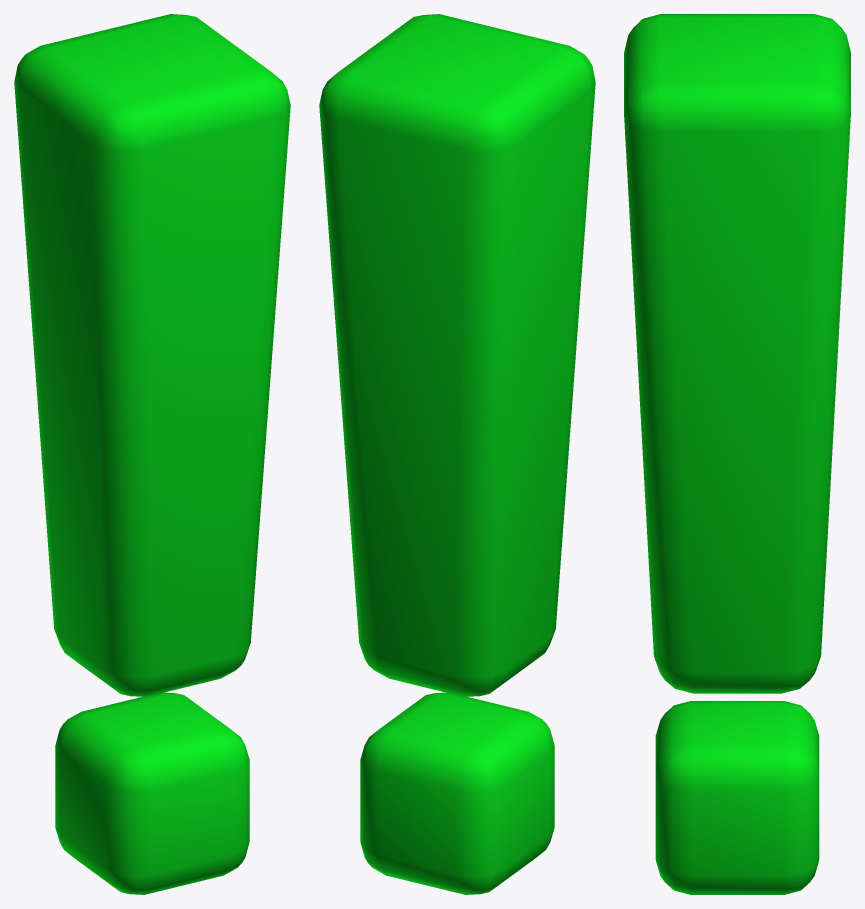
File: exclamation_point.fbx
The picture shows the model from 3 angles, left to right: view 1: azimuth 30°, elevation 25°; view 2: azimuth 150°, elevation 25°; view 3: azimuth 270°, elevation 25°; orthographic projection.
Parts seen in each view (by area): view 1: Cube1; view 2: Cube1; view 3: Cube1.
Boxes of the visible parts, <box> form: Cube1: <box>14,14,290,894</box>; Cube1: <box>319,14,595,894</box>; Cube1: <box>624,14,850,894</box>.
Bounding box in the file's own units: 74.49 × 298 × 74.49.
